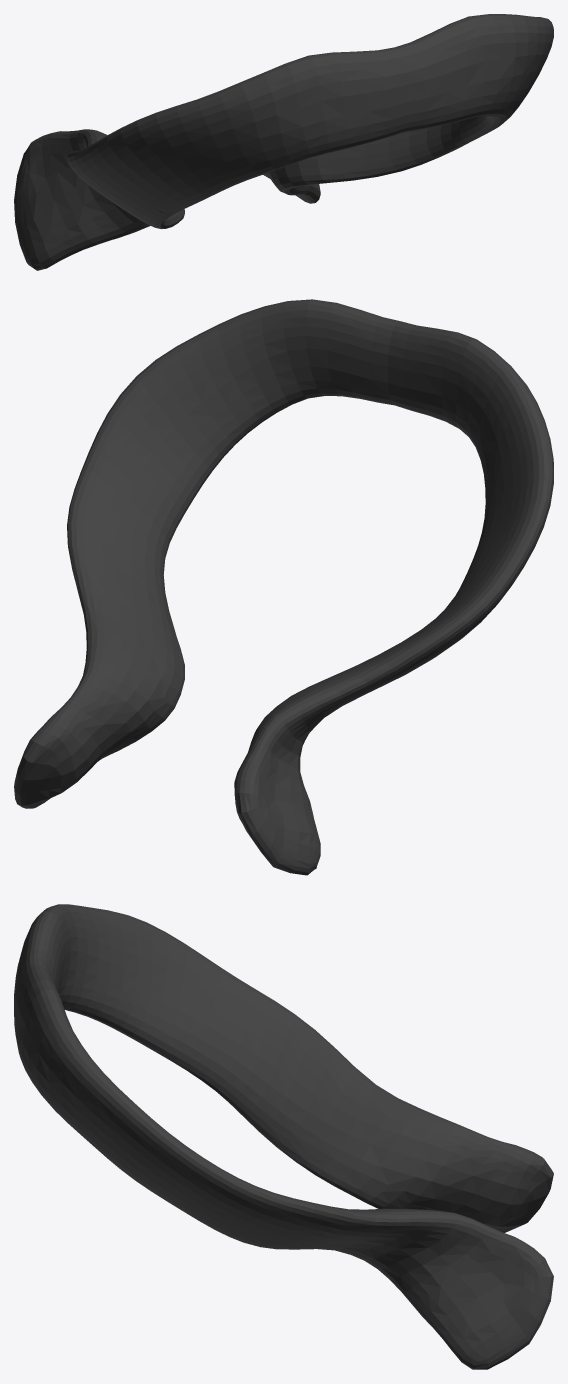
Rendered from m_ventricularis_LO.glb.
3 renders of one model, top to bottom at view 1: azimuth 30°, elevation 25°; view 2: azimuth 150°, elevation 25°; view 3: azimuth 270°, elevation 25°, orthographic.
Parts seen in each view (by area): view 1: m_ventricularis_LO; view 2: m_ventricularis_LO; view 3: m_ventricularis_LO.
Part boxes in pixels (left/top/right/bottom): m_ventricularis_LO: left=14, top=14, right=553, bottom=270; m_ventricularis_LO: left=14, top=299, right=553, bottom=875; m_ventricularis_LO: left=14, top=904, right=553, bottom=1369.
Size of the model in its own units: 0.1194 by 0.0936 by 0.1299.
1 material, 1 textured.
